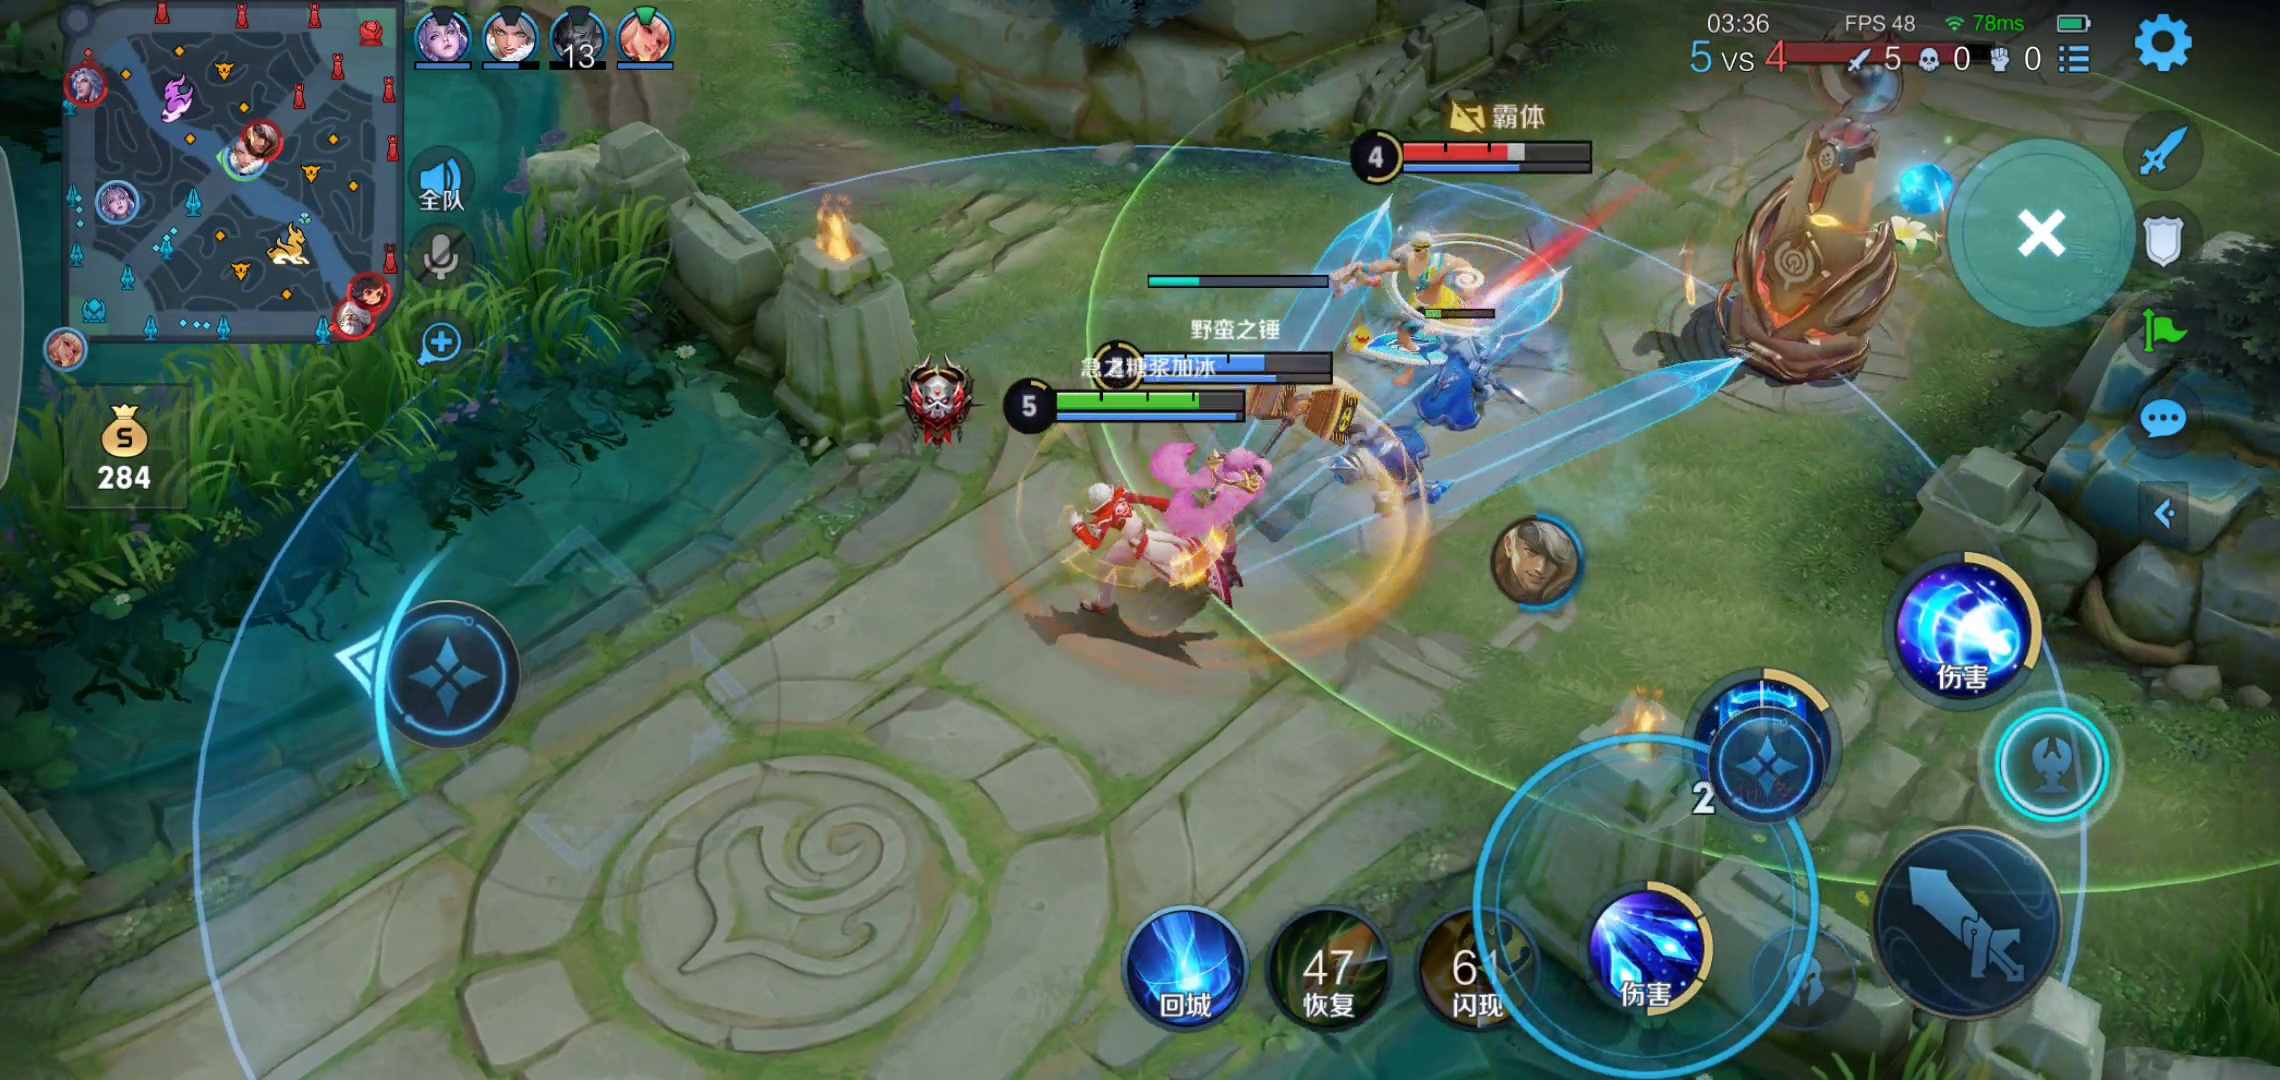grass: (15, 193, 667, 616)
hero: (1041, 458, 1217, 625), (1349, 233, 1522, 350), (1150, 443, 1290, 567)
soldier: (1412, 349, 1506, 443)
tower: (1707, 41, 1922, 371)
